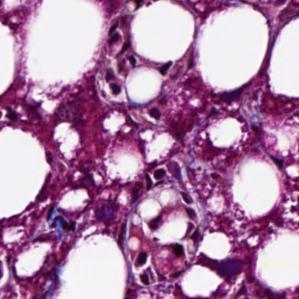inflammation: (128, 241, 188, 292), (94, 50, 145, 103), (146, 160, 183, 191)
